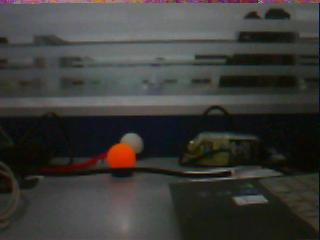oball: (107, 143, 135, 168)
